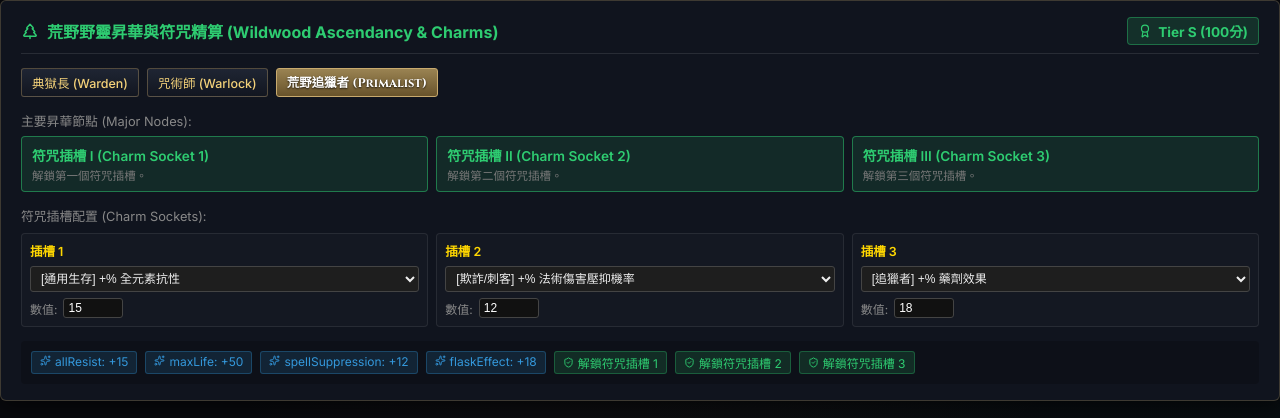
WildwoodCharmsCard › updates charm roll in Primalist mode
The width and height of the screenshot is (1280, 418).
Replace the text in the number field named "插槽 1 詞綴數值" with "14" at (94, 308), box [64, 298, 124, 318]
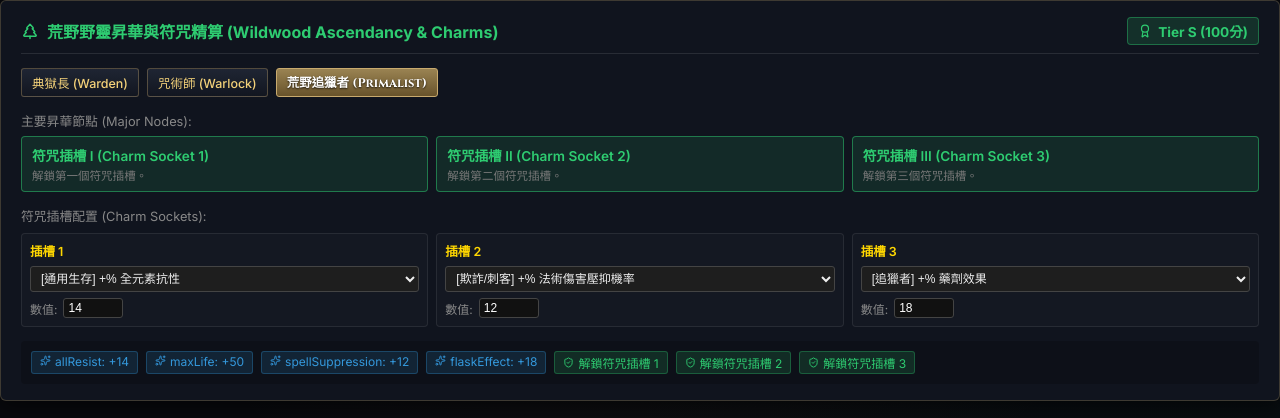
Expected: the text "allResist: +14" is shown, [31, 351, 138, 374]
